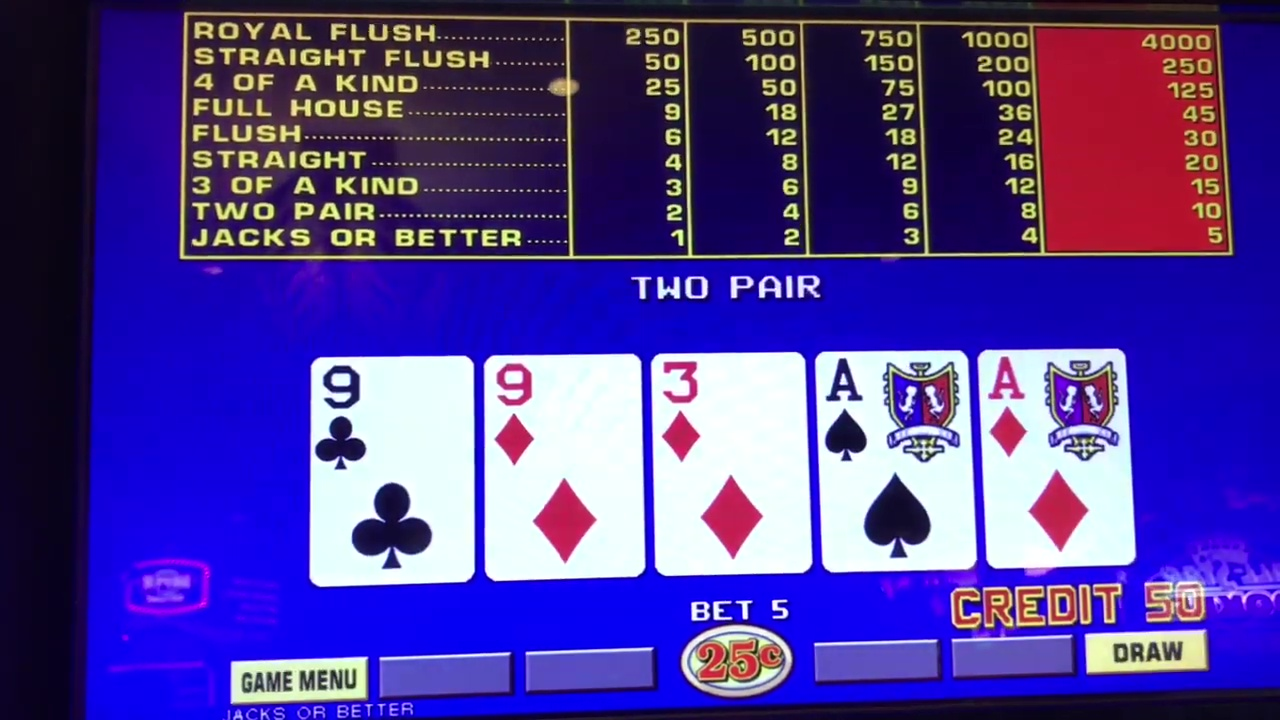C9: (316, 358, 464, 467)
D3: (659, 355, 798, 464)
D9: (491, 355, 636, 466)
DA: (982, 351, 1120, 456)
SA: (823, 351, 970, 458)
